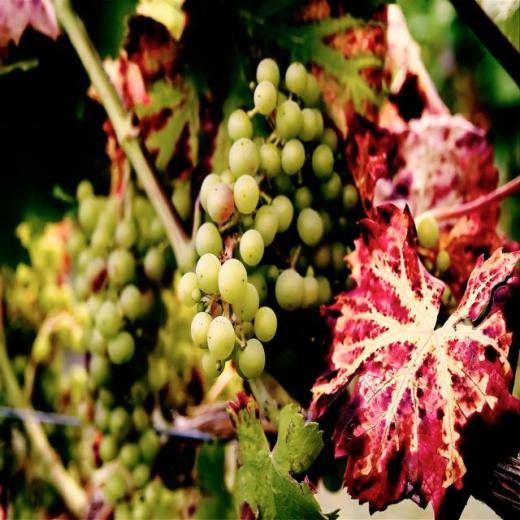Orange: (183, 57, 357, 375), (68, 183, 169, 520), (417, 218, 437, 248), (438, 252, 449, 268)
